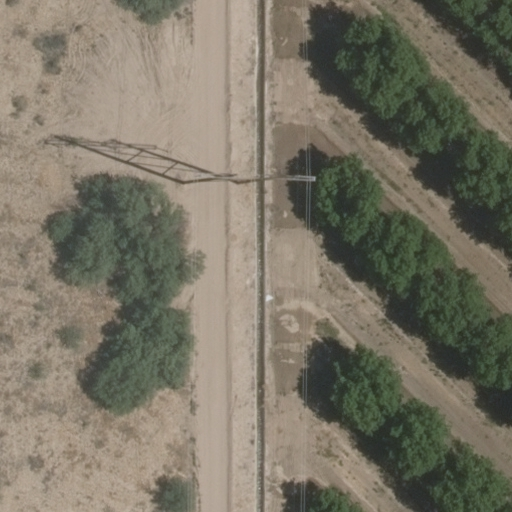DT: (174, 163, 322, 198)
